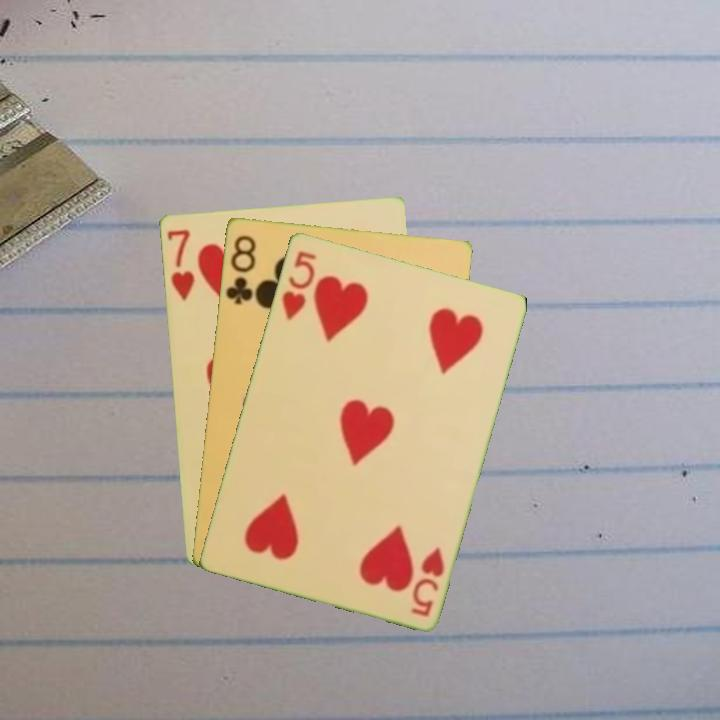5h: (278, 247, 319, 323), (407, 543, 447, 619)
7h: (163, 225, 197, 304)
8c: (222, 231, 258, 307)
